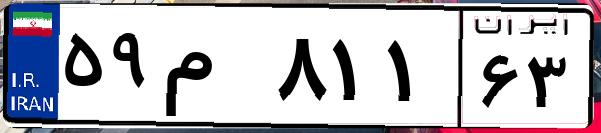1: (385, 28, 445, 110), (330, 28, 385, 110)
3: (525, 38, 570, 115)
5: (57, 26, 110, 100)
6: (475, 38, 525, 113)
8: (270, 28, 330, 110)
9: (110, 28, 158, 98)
م: (158, 20, 270, 120)
